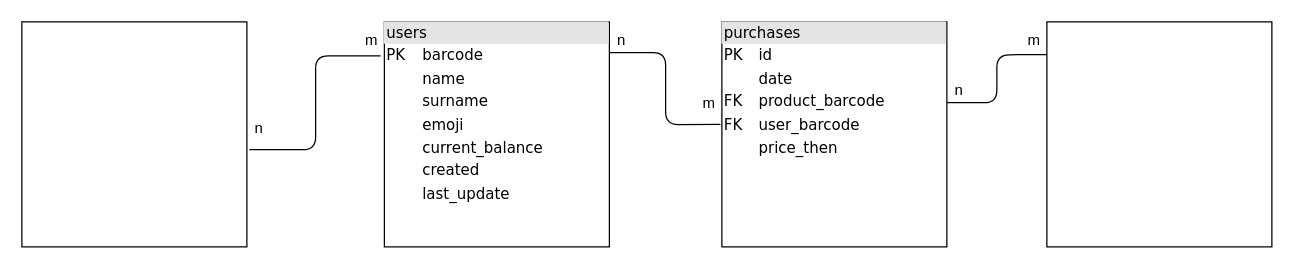
Some shapes in this 1294 by 269 pixel diagram are drawn without their labels. Each missing label, with the centre of its shape:
deposits PK id date amount reason FK user_barcode: [134,134]
products PK barcode producer name sell_price buy_price created last_update: [1159,134]
